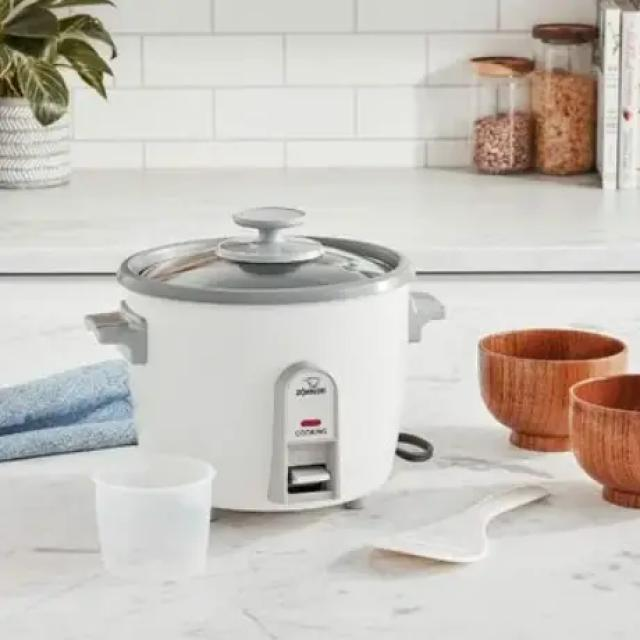appliances: (85, 209, 441, 511), (402, 433, 412, 441), (402, 451, 408, 458), (412, 440, 416, 441)
